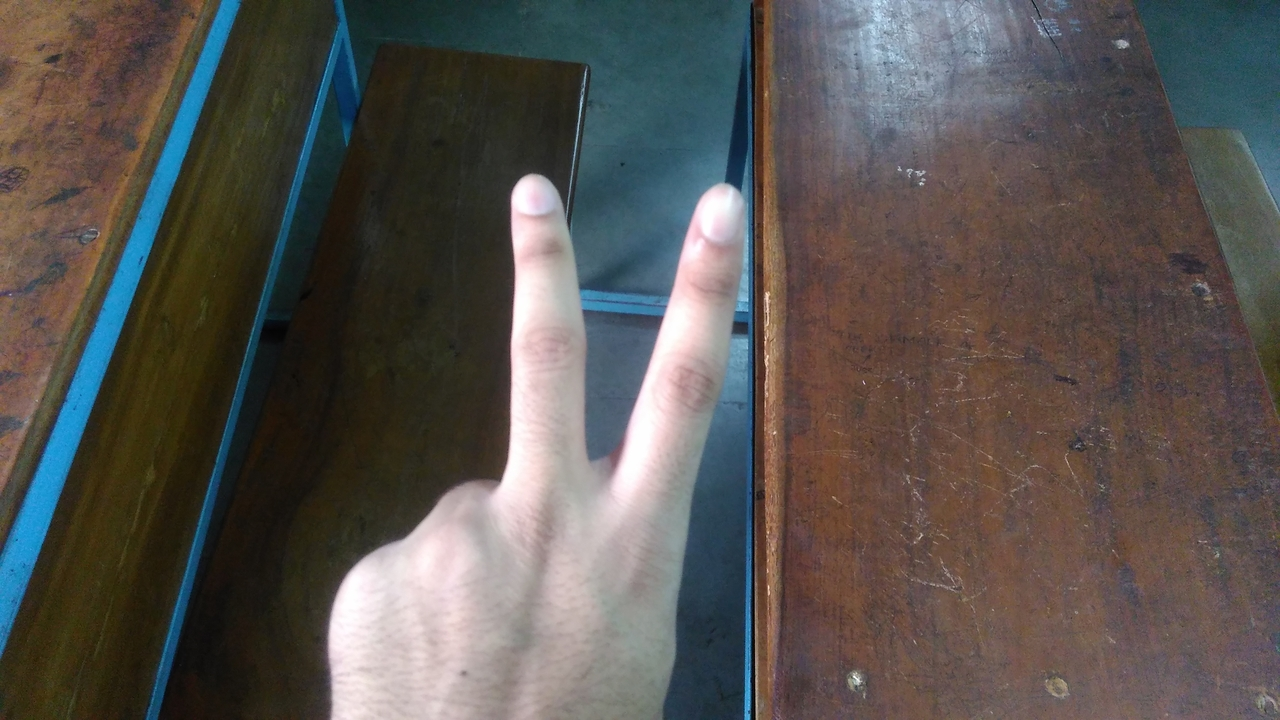fingertip: (678, 174, 754, 252), (502, 168, 564, 234)
